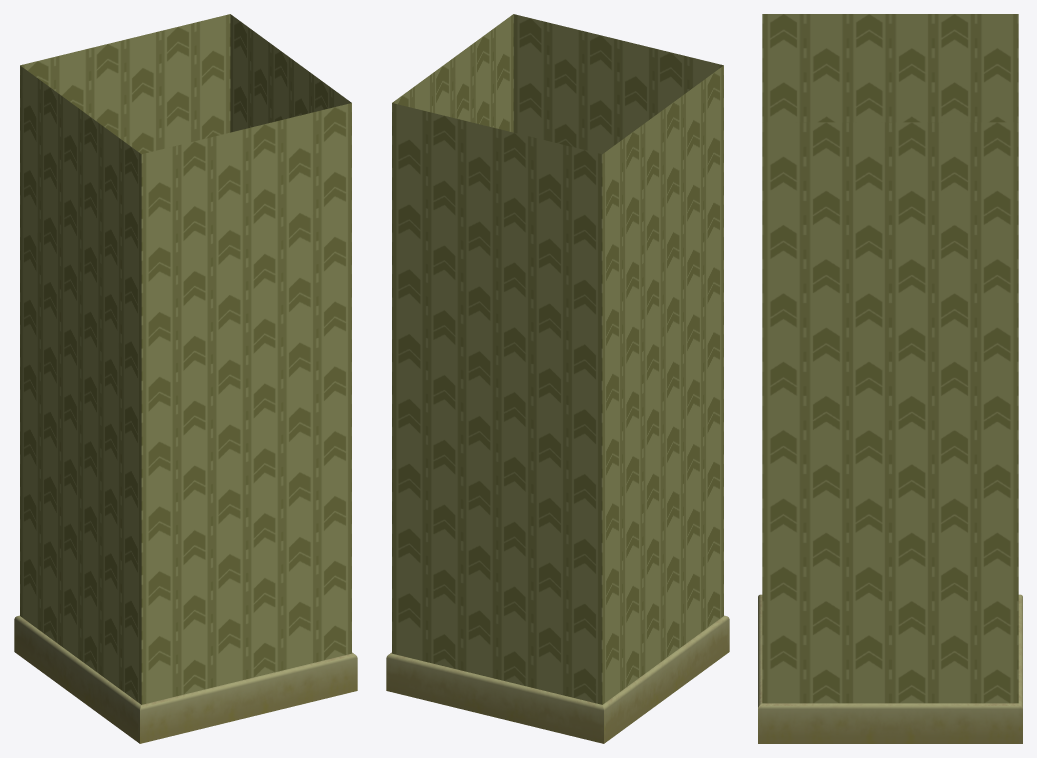
Rendered from Column.fbx.
The picture shows the model from 3 angles, left to right: view 1: azimuth 30°, elevation 25°; view 2: azimuth 150°, elevation 25°; view 3: azimuth 270°, elevation 25°; orthographic projection. The views are drawn at different scales.
Parts seen in each view (by area): view 1: Column; view 2: Column; view 3: Column.
Part boxes in pixels (x1,y1,x2,y2): Column: (14, 14, 357, 743); Column: (386, 14, 729, 743); Column: (758, 14, 1022, 743).
Bounding box in the file's own units: 155 × 400 × 155.
